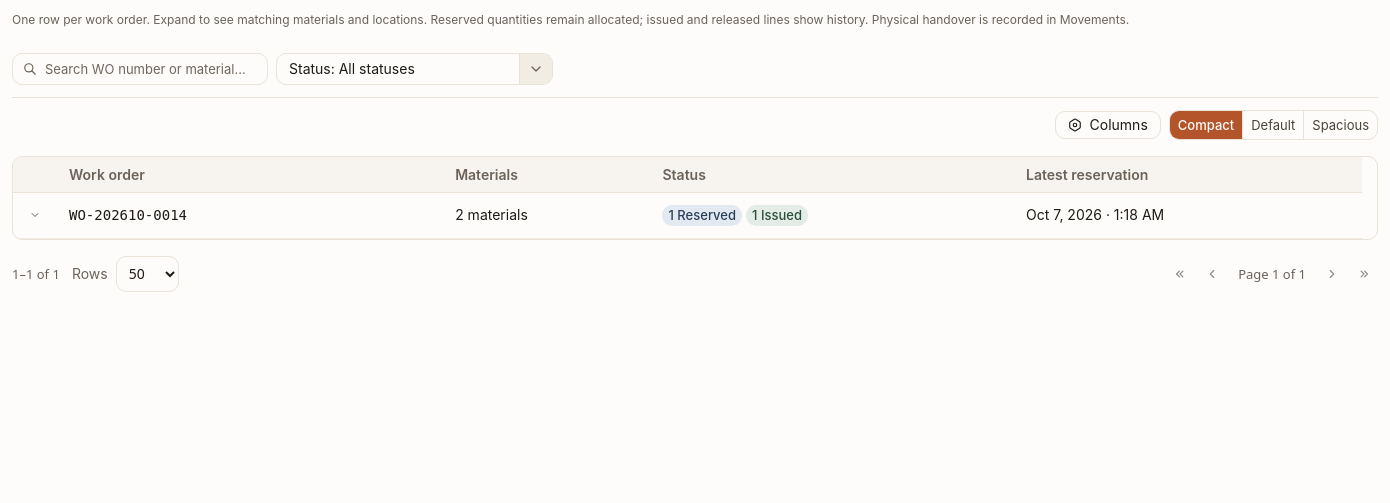
Test: shows one WO summary and expands exact material quantities and locations
Expected: the text "WO-202610-0014" is shown, x1=69 y1=207 x2=187 y2=223
Expected: the text "2 materials" is shown, x1=443 y1=193 x2=650 y2=238
Click the button named "Expand row": click(35, 215) x1=25 y1=205 x2=45 y2=225
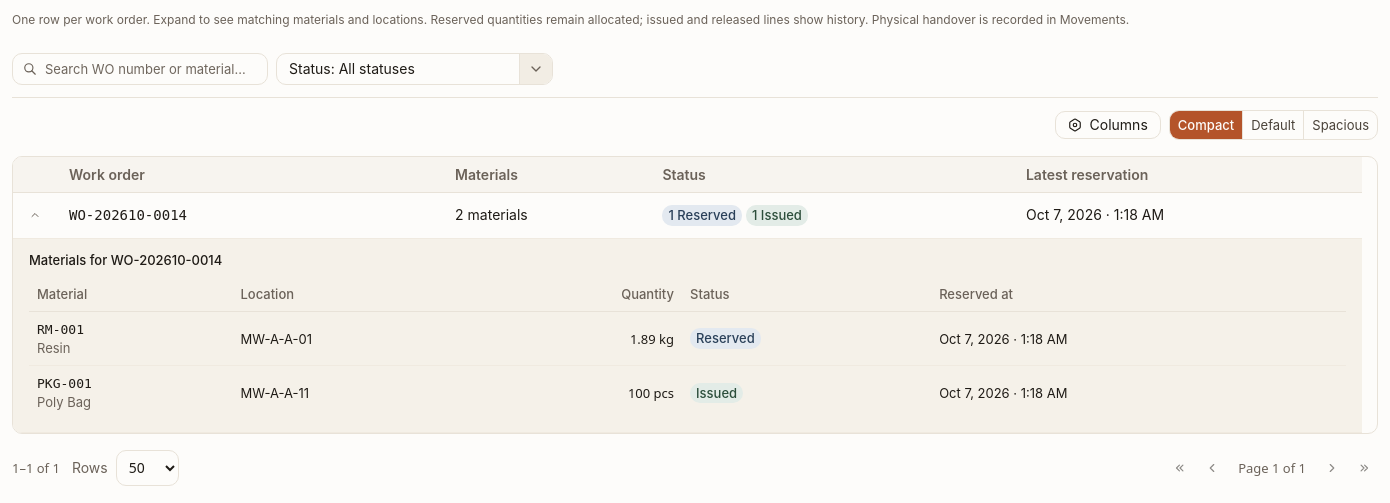
Now the text "RM-001" is shown, box x1=37 y1=322 x2=84 y2=337
Now the text "1.89 kg" is shown, box x1=630 y1=330 x2=674 y2=348
Now the text "100 pcs" is shown, box x1=628 y1=384 x2=674 y2=402
Click the button named "Collapse row": click(35, 215) x1=25 y1=205 x2=45 y2=225
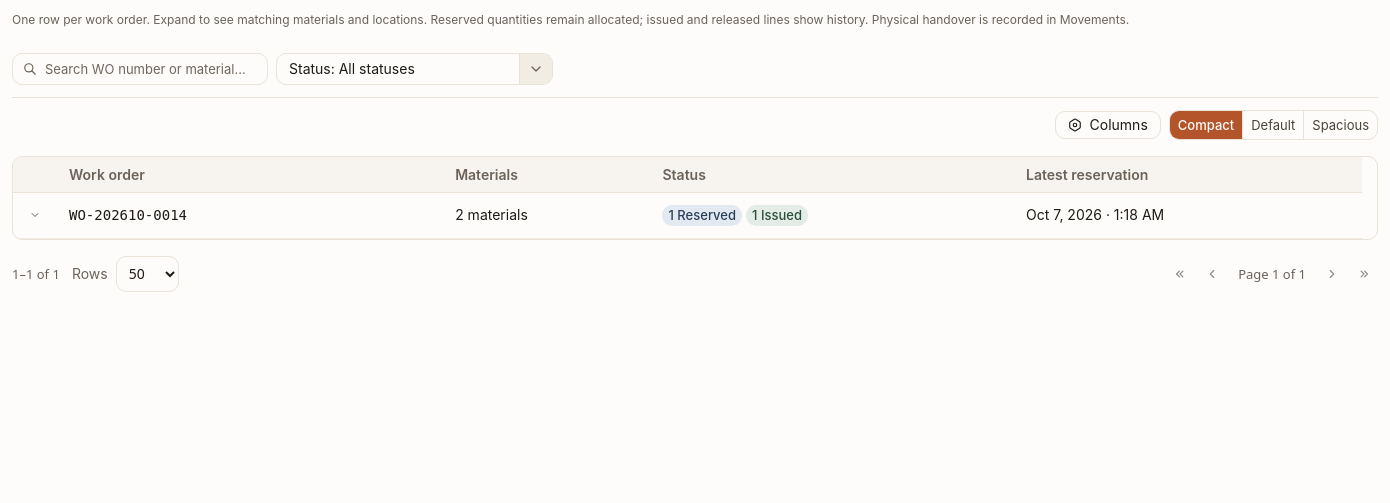
Now the text "RM-001" is gone
